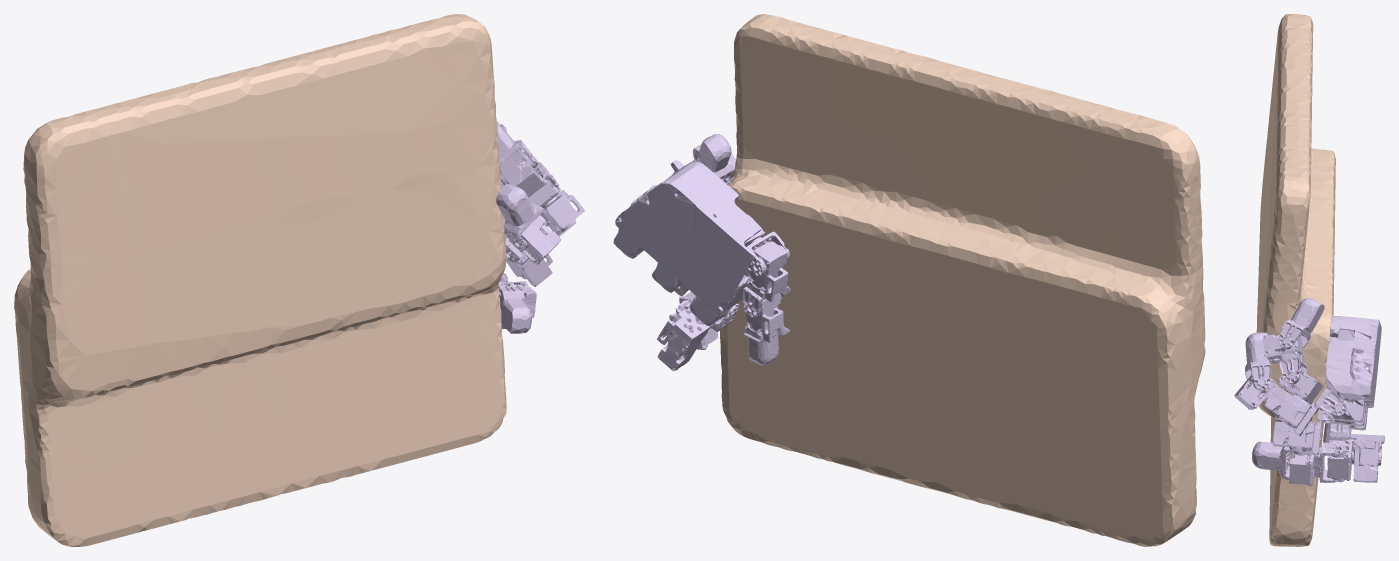
Rendered from af5eb7aba81ac4-closed.glb.
3 views of the same model, side by side, from view 1: azimuth 30°, elevation 25°; view 2: azimuth 150°, elevation 25°; view 3: azimuth 270°, elevation 25° (orthographic). The views are drawn at different scales.
Visible parts, largest first — view 1: world, LEAP_hand; view 2: world, LEAP_hand; view 3: world, LEAP_hand.
Part boxes in pixels (x1,y1,x2,y2): world: [14, 14, 506, 546]; LEAP_hand: [496, 121, 584, 333]; world: [720, 14, 1205, 546]; LEAP_hand: [613, 134, 791, 370]; world: [1256, 14, 1335, 546]; LEAP_hand: [1234, 298, 1384, 486].
Size of the model in its own units: 0.5471 by 0.4048 by 0.148.
